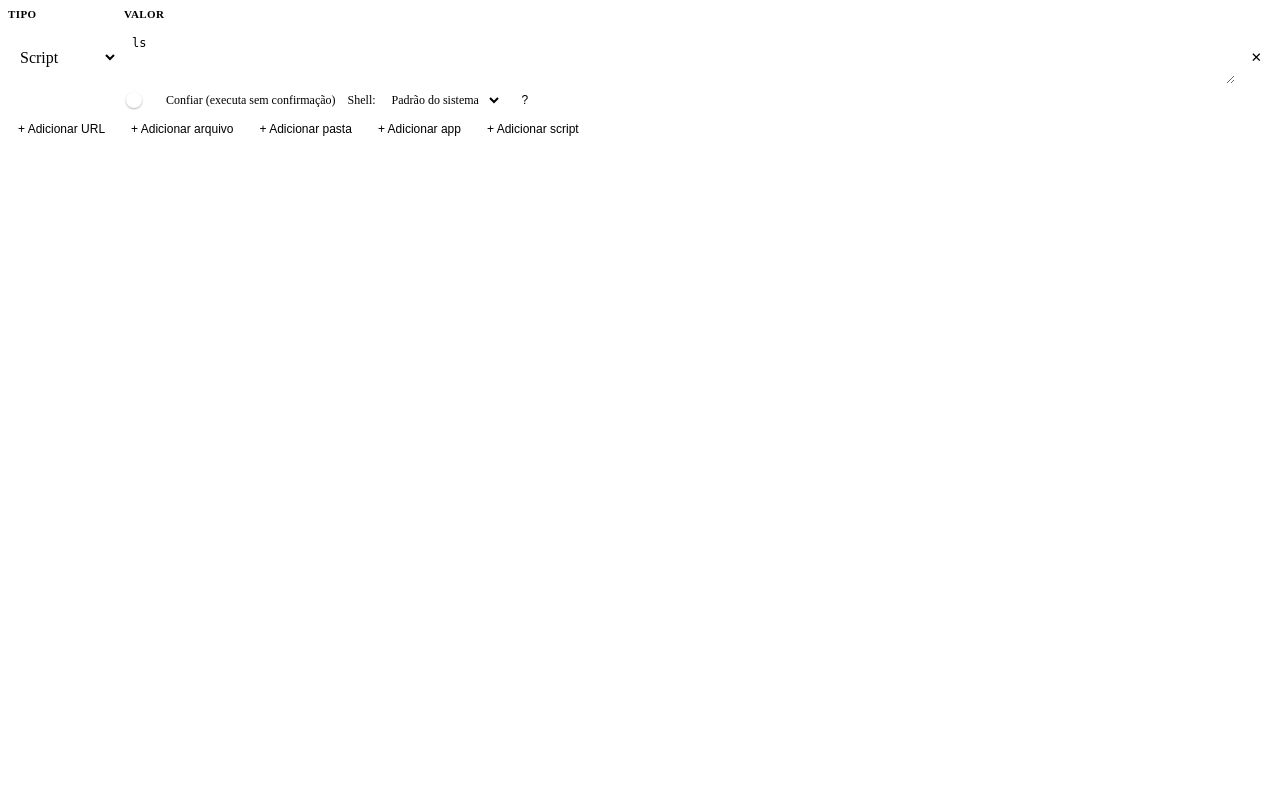
Test case: ItemListEditor › opens the script help modal when the ? button is clicked on a script row
The image size is (1280, 800).
Click the button with test id "item-script-help-0": (525, 100) [514, 91, 536, 109]
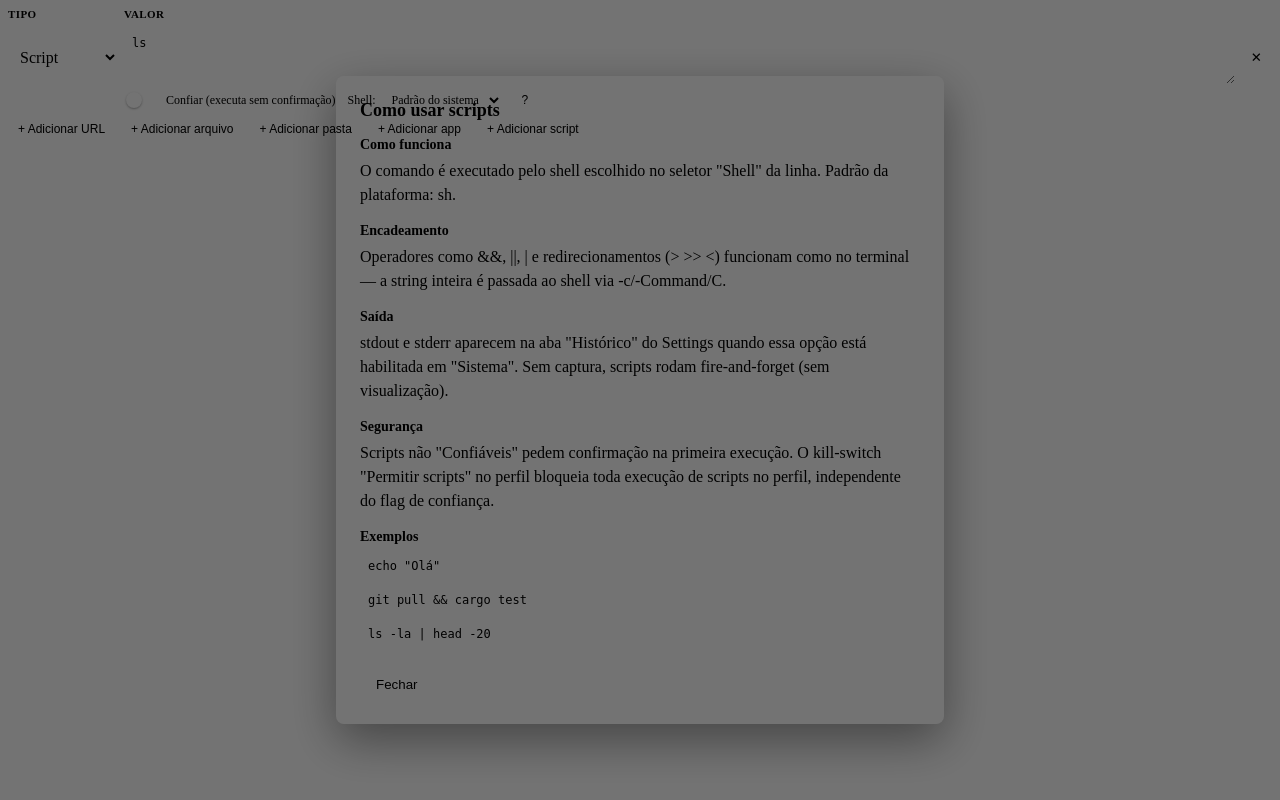
Result: the element with test id "script-help-modal" is shown
